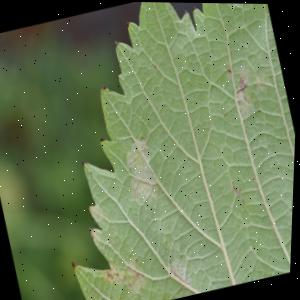Folha: (11, 0, 300, 300)
Fungo: (120, 133, 164, 200), (104, 256, 150, 297), (229, 63, 262, 114), (123, 134, 154, 167), (168, 251, 194, 286), (233, 73, 252, 102), (232, 177, 248, 205), (84, 296, 128, 300), (100, 81, 112, 93), (73, 258, 81, 269), (226, 65, 233, 74), (82, 157, 88, 166), (100, 135, 107, 142), (101, 82, 107, 89)
